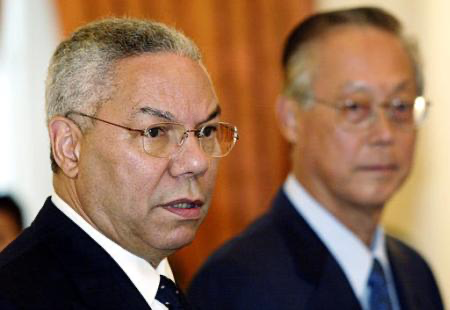Face: (102, 84, 223, 251), (311, 64, 429, 202)
